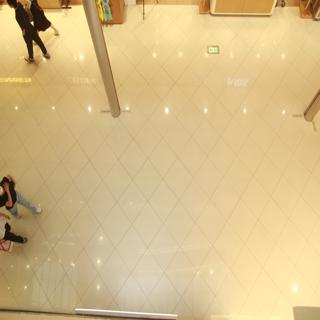person: (1, 1, 62, 74), (1, 172, 59, 230)
